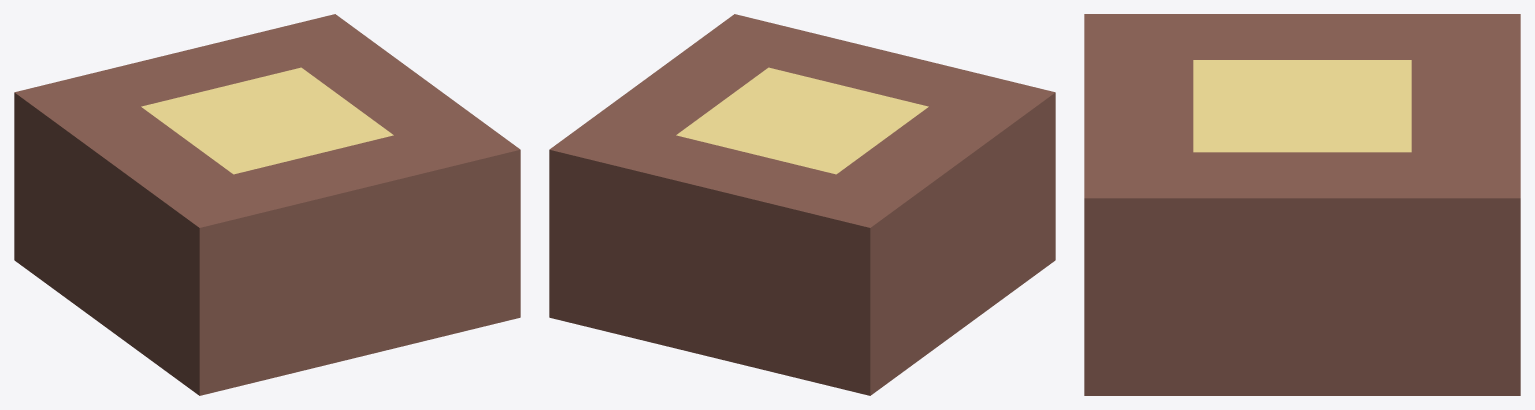
File: stomp.fbx
The picture shows the model from 3 angles, left to right: view 1: azimuth 30°, elevation 25°; view 2: azimuth 150°, elevation 25°; view 3: azimuth 270°, elevation 25°; orthographic projection. The views are drawn at different scales.
Visible parts, largest first — view 1: cube, cube_3, cube_1, cube_4, cube_2; view 2: cube, cube_2, cube_1, cube_4, cube_3; view 3: cube_1, cube_4, cube, cube_2, cube_3.
Part boxes in pixels (bbox=[...]): cube: bbox=[14, 73, 279, 395]; cube_3: bbox=[234, 135, 440, 376]; cube_1: bbox=[255, 14, 520, 336]; cube_4: bbox=[141, 67, 393, 174]; cube_2: bbox=[95, 33, 300, 106]; cube: bbox=[790, 73, 1055, 395]; cube_2: bbox=[629, 135, 835, 376]; cube_1: bbox=[549, 14, 814, 336]; cube_4: bbox=[676, 67, 928, 174]; cube_3: bbox=[769, 33, 974, 106]; cube_1: bbox=[1084, 152, 1520, 395]; cube_4: bbox=[1193, 60, 1411, 152]; cube: bbox=[1084, 14, 1520, 59]; cube_2: bbox=[1411, 60, 1520, 152]; cube_3: bbox=[1084, 60, 1193, 152].
Size of the model in its own units: 50 by 25 by 50.
2 materials, 2 textured.
